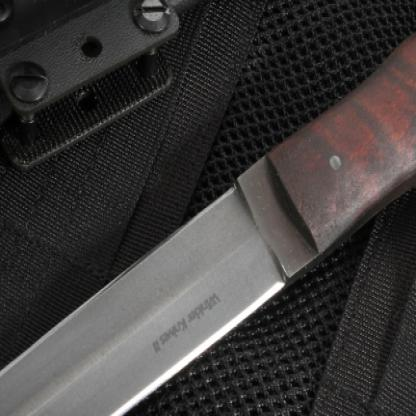knife: (0, 96, 374, 414)
